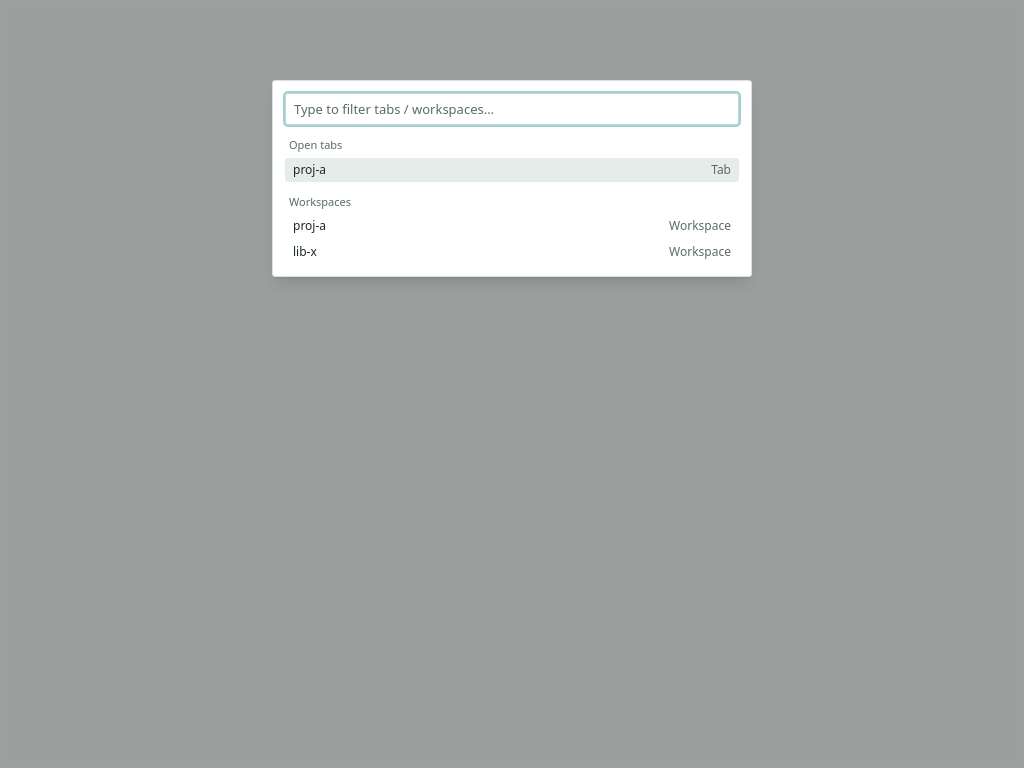
Test case: QuickSwitcher › 列出「已打开的页签」与「工作区」两组条目，输入按名称/路径过滤（大小写不敏感）
Check: the text "Open tabs" is shown, box left=289, top=137, right=342, bottom=152
Check: the text "Workspaces" is shown, box left=289, top=194, right=351, bottom=208
Type "LIB" into the field named "Search tabs or workspaces" at point(512, 109), box left=285, top=93, right=739, bottom=125
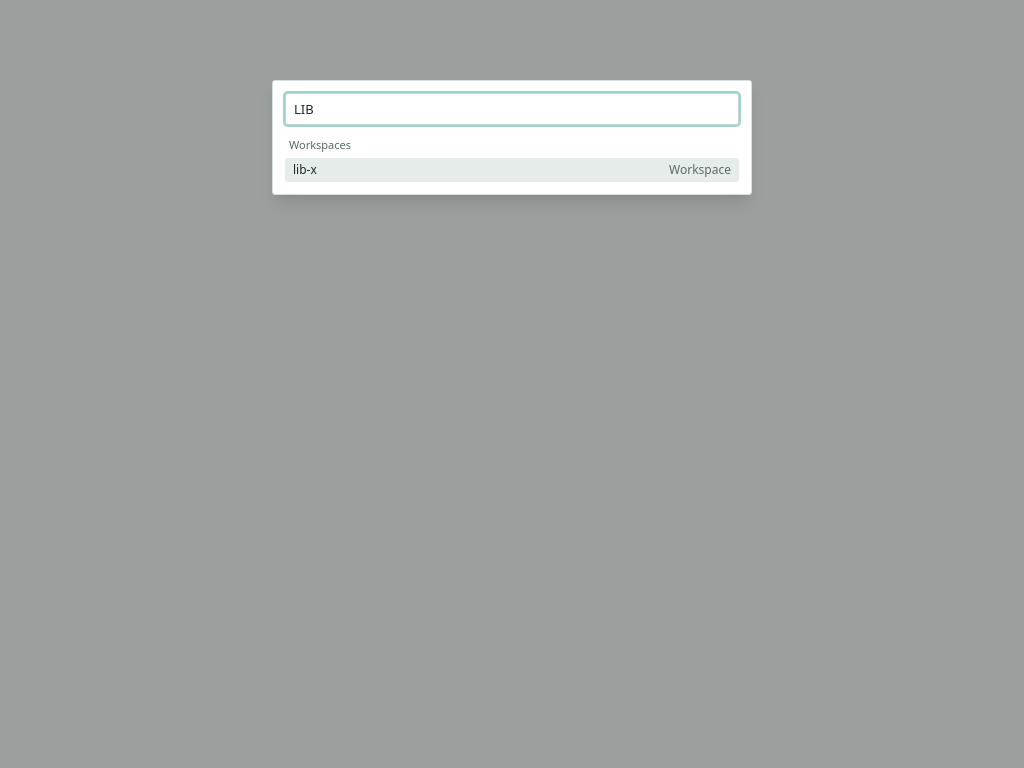
Check: the text "lib-x" is shown, box left=293, top=162, right=317, bottom=178
Check: the button "proj-a" is gone
